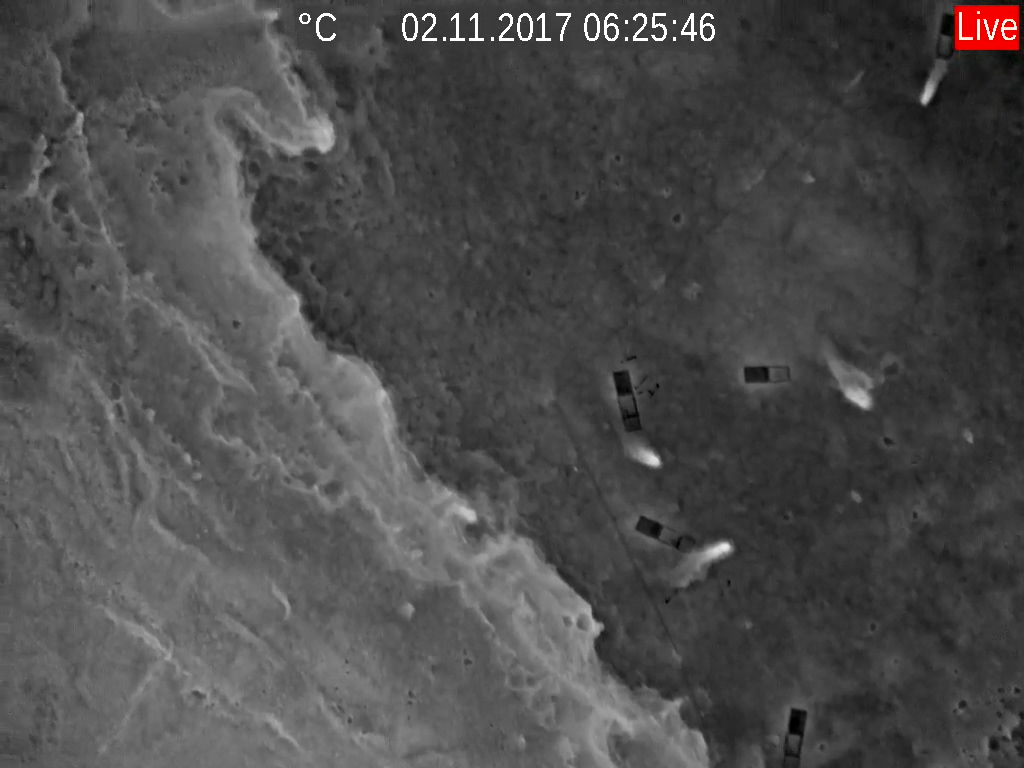warren: (824, 351, 878, 410), (615, 434, 672, 478), (916, 55, 951, 113), (695, 531, 736, 566)
